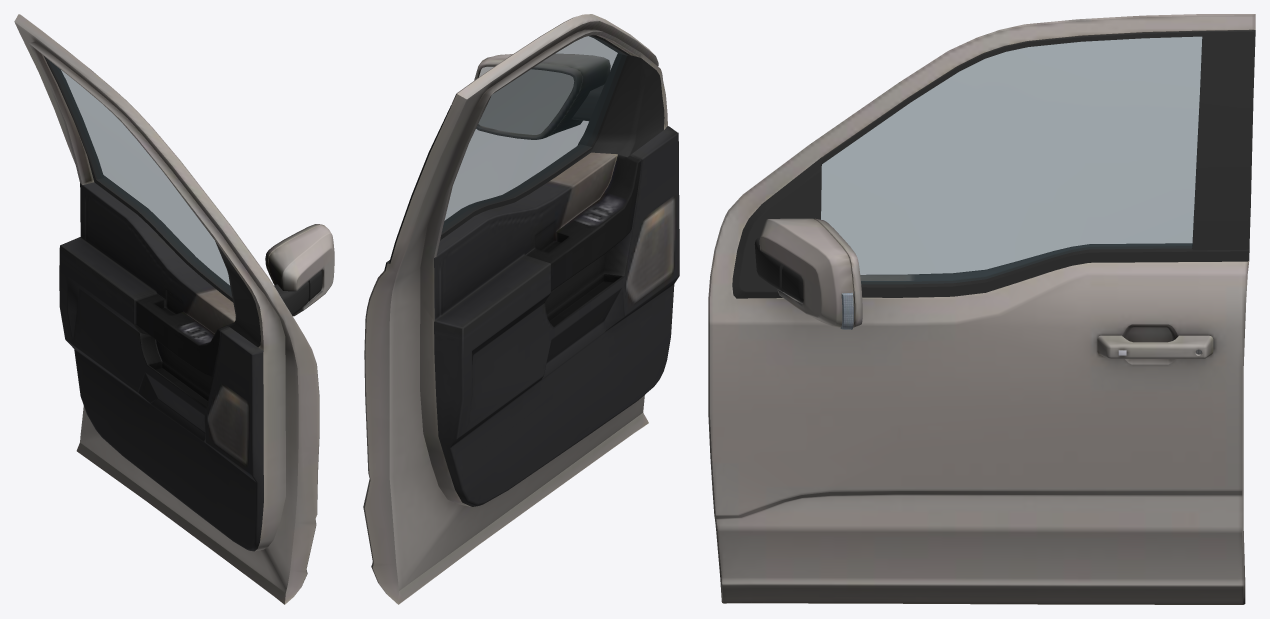
The model's file is raptor_door.glb.
3 renders of one model, left to right at view 1: azimuth 30°, elevation 25°; view 2: azimuth 150°, elevation 25°; view 3: azimuth 270°, elevation 25°, orthographic. The views are drawn at different scales.
Visible parts, largest first — view 1: raptor_door; view 2: raptor_door; view 3: raptor_door.
Part boxes in pixels (<box>): raptor_door: <box>14,14,334,604</box>; raptor_door: <box>363,14,679,604</box>; raptor_door: <box>708,14,1255,604</box>.
Bounding box in the file's own units: 0.5345 × 1.42 × 1.26.
Materials: 4 (3 with a texture image).
